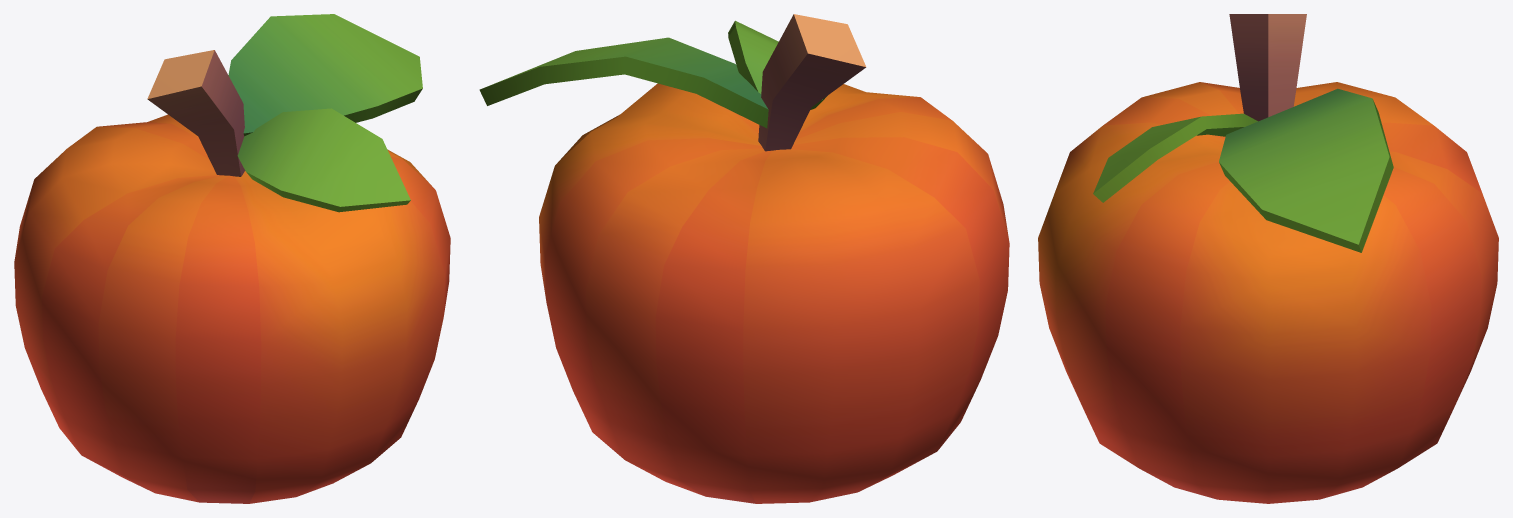
Rendered from Apple_Whole_Red_01.fbx.
3 renders of one model, left to right at view 1: azimuth 30°, elevation 25°; view 2: azimuth 150°, elevation 25°; view 3: azimuth 270°, elevation 25°, orthographic. The views are drawn at different scales.
Visible parts, largest first — view 1: Apple_Whole_Red_01; view 2: Apple_Whole_Red_01; view 3: Apple_Whole_Red_01.
Boxes of the visible parts, left/top/right/bottom form: Apple_Whole_Red_01: left=14, top=14, right=450, bottom=503; Apple_Whole_Red_01: left=479, top=14, right=1009, bottom=503; Apple_Whole_Red_01: left=1038, top=14, right=1498, bottom=503.
Size of the model in its own units: 0.4782 by 0.4625 by 0.433.
